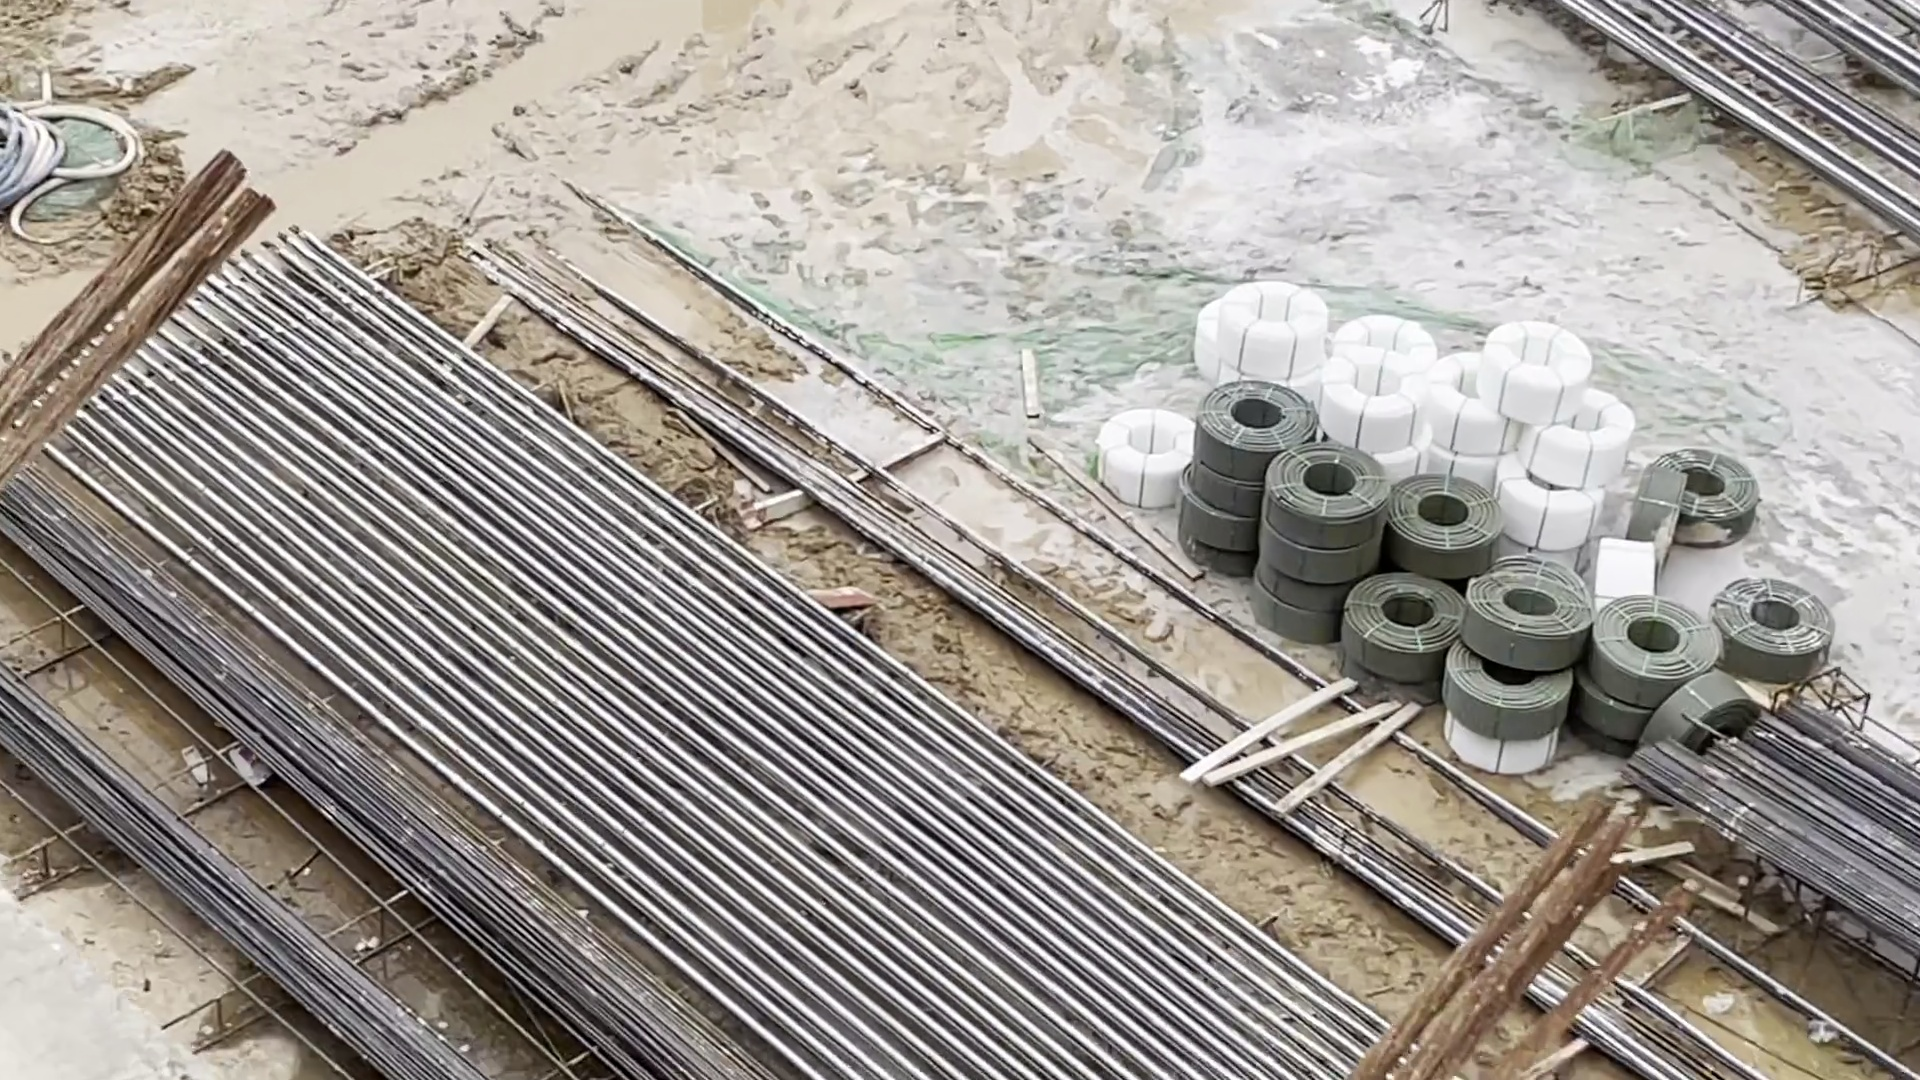rebar: (41, 485, 559, 1080)
